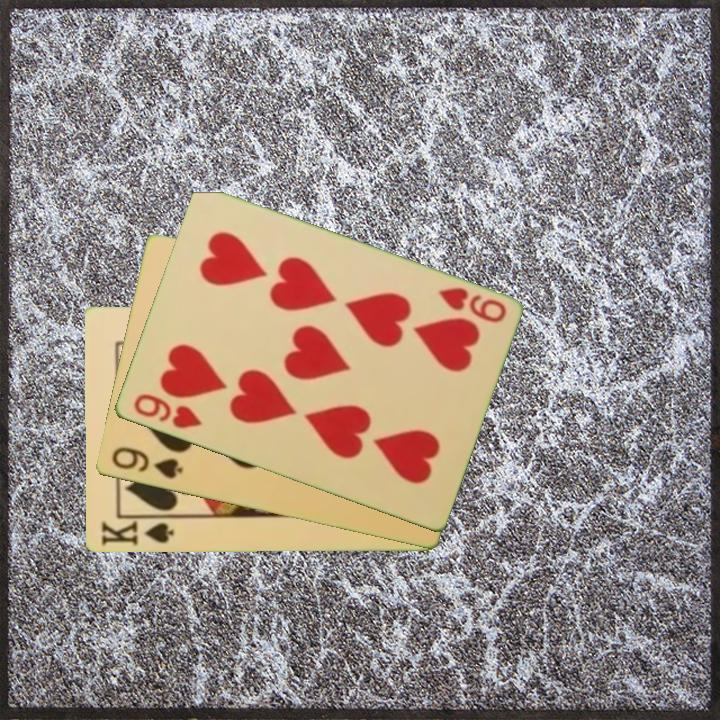9h: (129, 390, 204, 432), (434, 284, 509, 326)
9s: (107, 443, 185, 482)
Ks: (97, 514, 178, 549)
